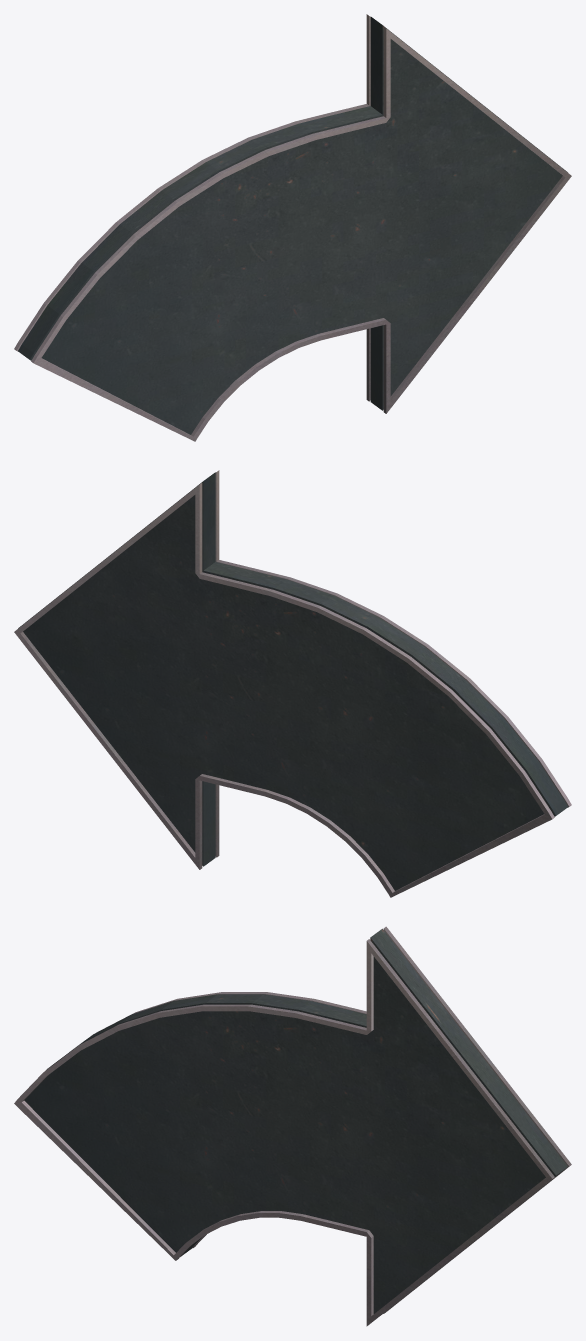
File: Arrow_Sign.fbx
The picture shows the model from 3 angles, top to bottom: view 1: azimuth 30°, elevation 25°; view 2: azimuth 150°, elevation 25°; view 3: azimuth 330°, elevation 25°; orthographic projection.
Parts seen in each view (by area): view 1: Arrow; view 2: Arrow; view 3: Arrow.
Boxes of the visible parts, box(x1,y1,x2,y2) form: Arrow: box(14, 14, 571, 441); Arrow: box(14, 470, 571, 897); Arrow: box(14, 926, 571, 1326).
Bounding box in the file's own units: 120 × 82.43 × 7.56.
2 materials, 2 textured.
